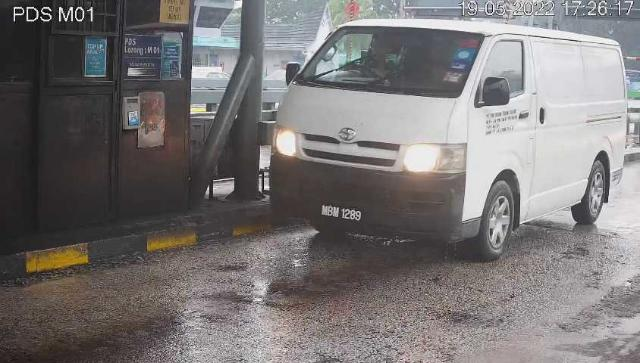License_Plate: (317, 201, 368, 230)
van: (271, 22, 629, 263)
